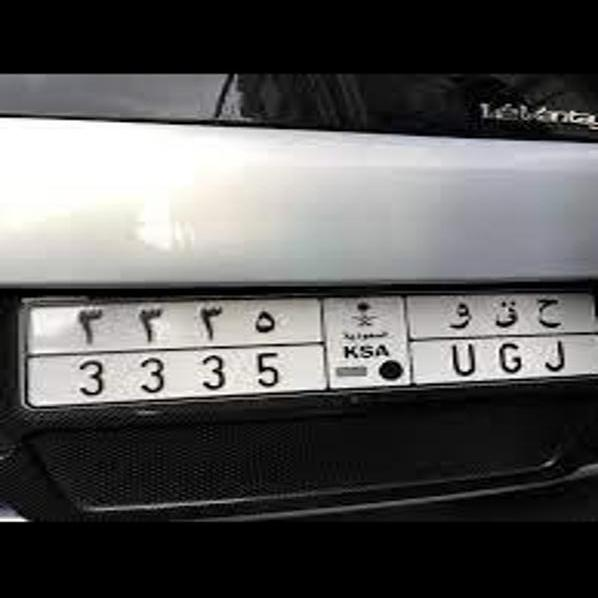numberplate: (60, 298, 574, 400)
